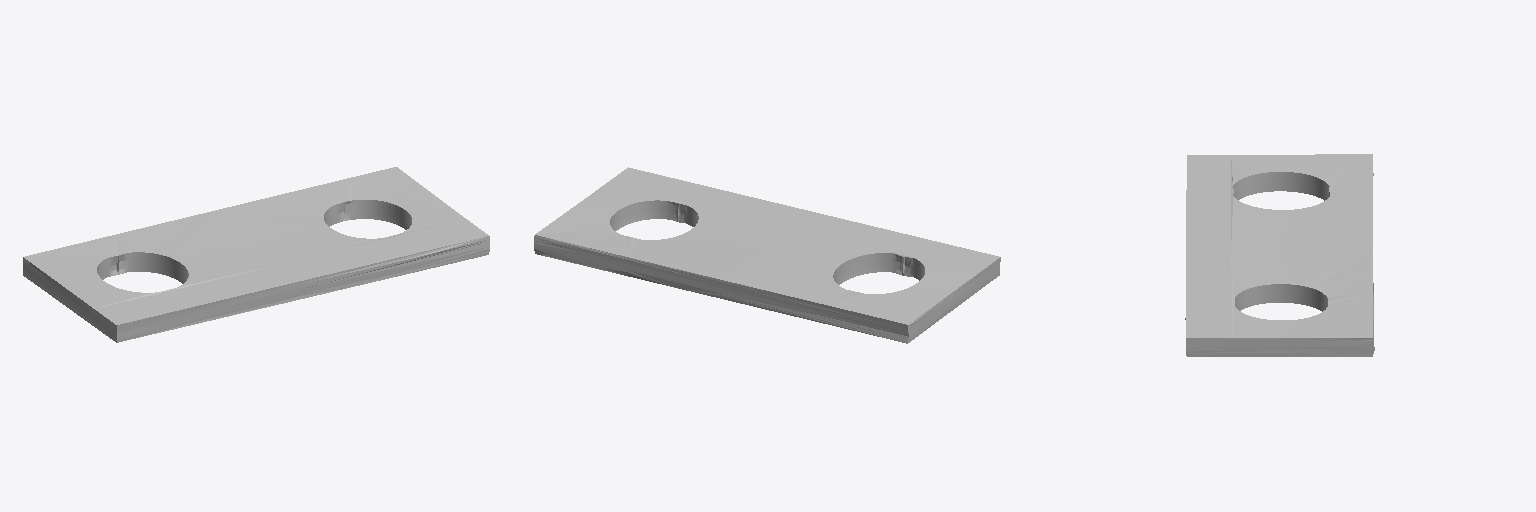
The model's file is sample_06_output.obj.
3 views of the same model, side by side, from view 1: azimuth 30°, elevation 25°; view 2: azimuth 150°, elevation 25°; view 3: azimuth 270°, elevation 25° (orthographic).
Visible parts, largest first — view 1: mesh2, mesh7, mesh4, mesh9, mesh1; view 2: mesh2, mesh5, mesh4, mesh9, mesh1; view 3: mesh2, mesh6, mesh8, mesh0.
Part boxes in pixels (x1,y1,x2,y2): mesh2: (24,167,488,324); mesh7: (117,236,489,342); mesh4: (23,257,116,342); mesh9: (119,252,188,283); mesh1: (344,200,411,229); mesh2: (535,167,999,324); mesh5: (534,235,908,343); mesh4: (908,257,1000,342); mesh9: (833,253,903,284); mesh1: (610,200,677,230); mesh2: (1186,154,1372,337); mesh6: (1186,338,1374,356); mesh8: (1233,172,1329,200); mesh0: (1235,284,1327,311).
Bounding box in the file's own units: 0.002 × 0.0001 × 0.0009.